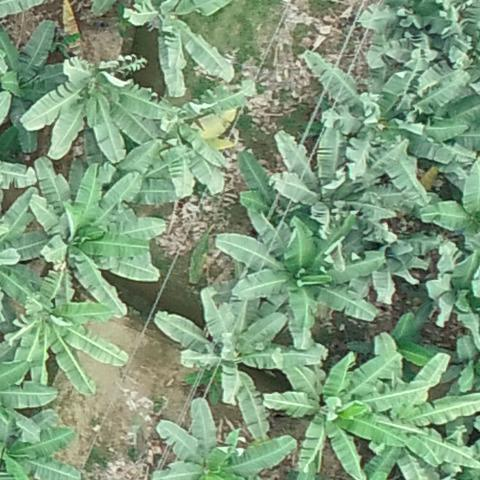Banana-plant: (23, 159, 165, 305), (216, 220, 376, 343), (154, 289, 320, 393), (302, 52, 458, 157), (0, 270, 124, 393), (268, 361, 387, 475), (275, 131, 409, 229), (369, 362, 480, 480), (28, 56, 163, 150), (160, 405, 289, 480), (0, 23, 70, 158), (137, 1, 237, 91), (150, 91, 233, 193), (374, 3, 480, 74), (430, 232, 480, 336), (0, 418, 79, 480)
